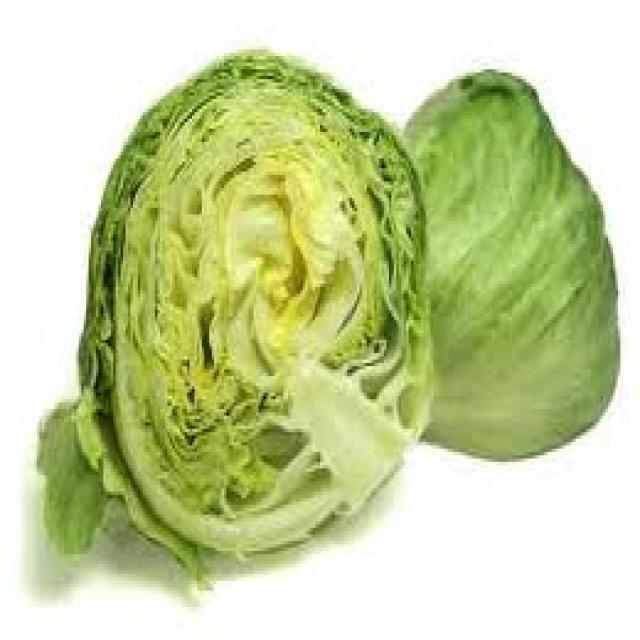cabbage: (34, 46, 623, 581)
